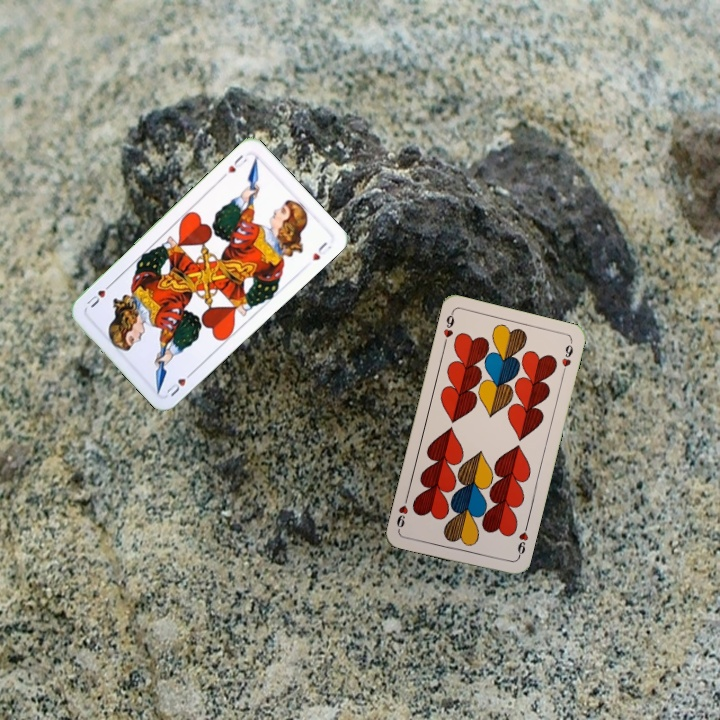H9: (439, 309, 457, 349), (513, 521, 531, 561)
HU: (162, 367, 196, 400), (218, 151, 250, 181)
